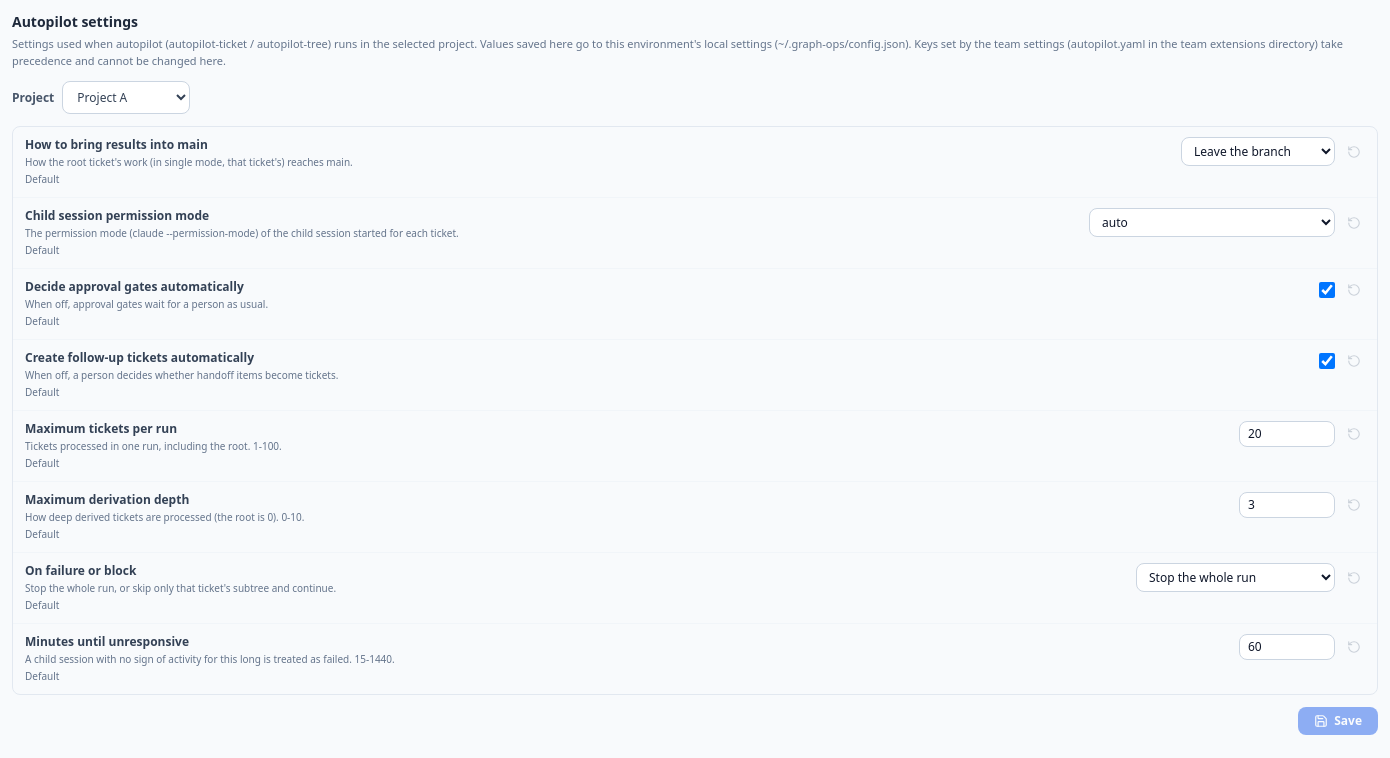
it: AutopilotSettingsEditor › translates a 400 AUTOPILOT_SETTING_LOCKED into en with the key names
The image size is (1390, 758).
Replace the text in the number field labelled "Maximum tickets per run" with "12" at (1287, 434), box x1=1239 y1=421 x2=1335 y2=447
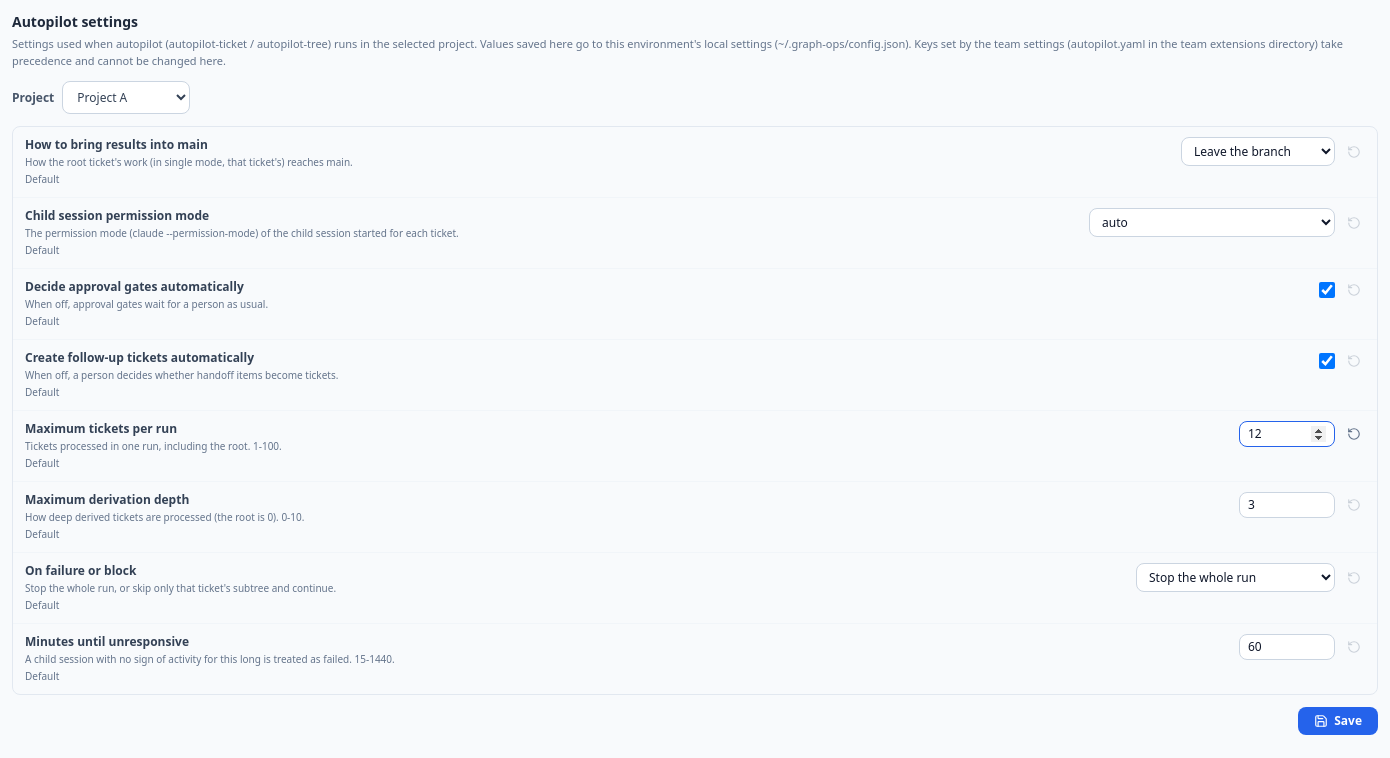
Click the button "Save" at (1338, 721), box x1=1298 y1=707 x2=1378 y2=735
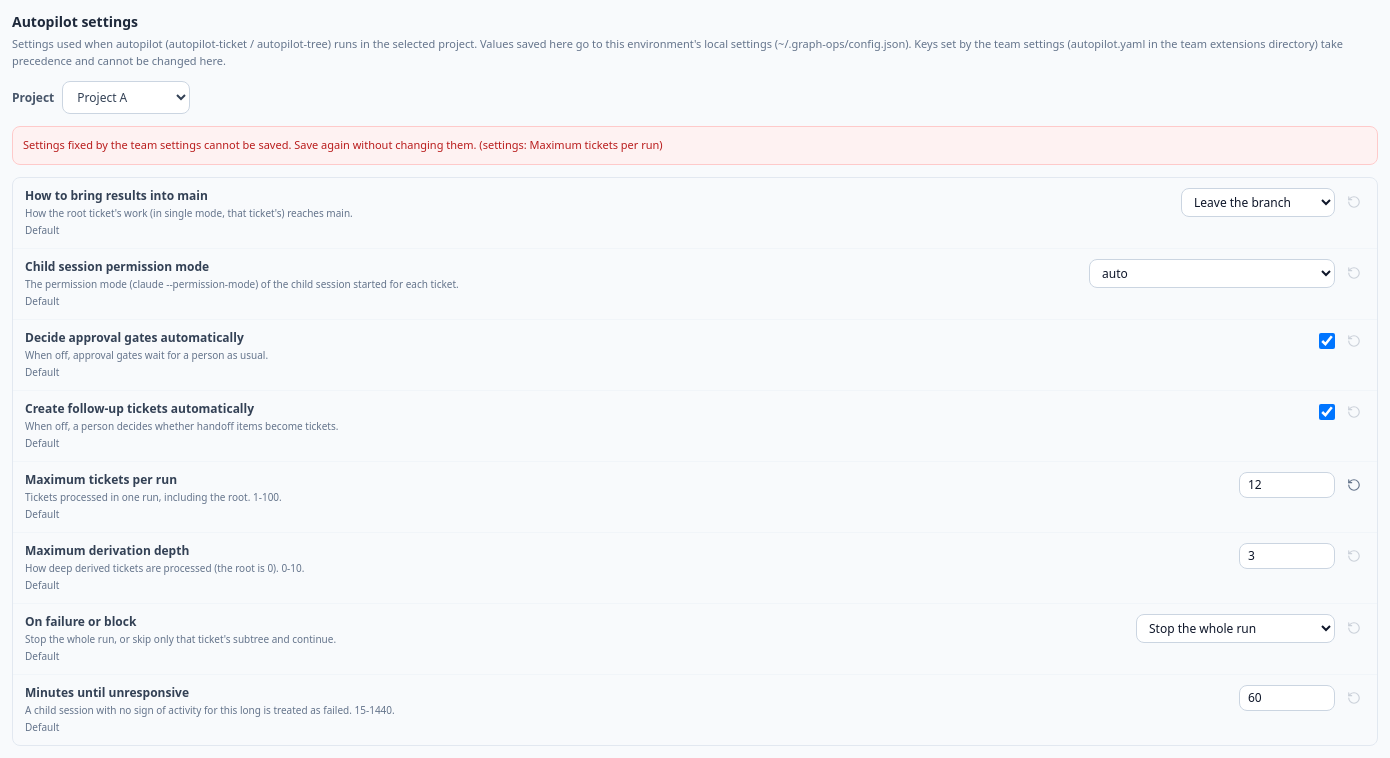
Expected: the message does not show "locked: maxTickets", x1=12 y1=126 x2=1378 y2=164
Result: the message shows "Settings fixed by the team settings cannot be saved. Save again without changing them." at x1=23 y1=137 x2=663 y2=152
Result: the message shows "Maximum tickets per run" at x1=23 y1=137 x2=663 y2=152
